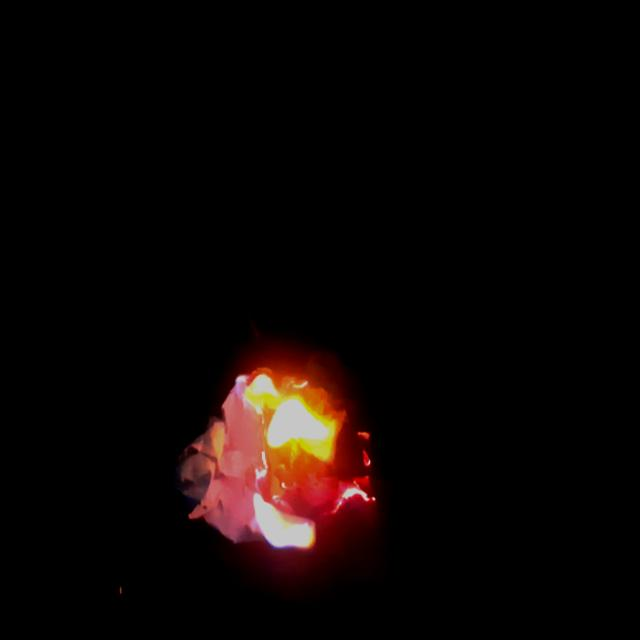helmet: (236, 365, 377, 552)
